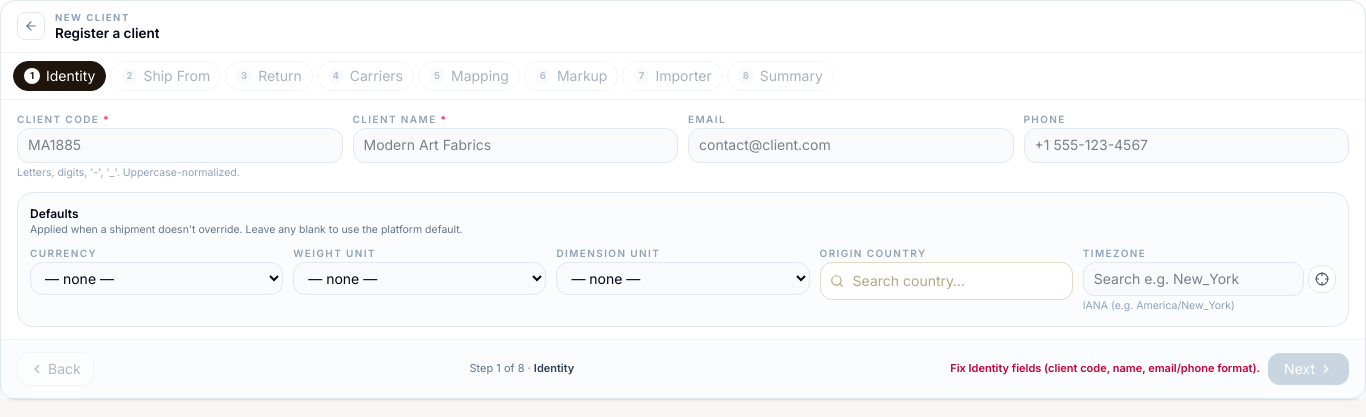
ClientEditorPage · Identity · negative › empty name → touched → required error
Click the field with placeholder "Modern Art Fabrics" at (515, 146), box x1=352 y1=128 x2=678 y2=163
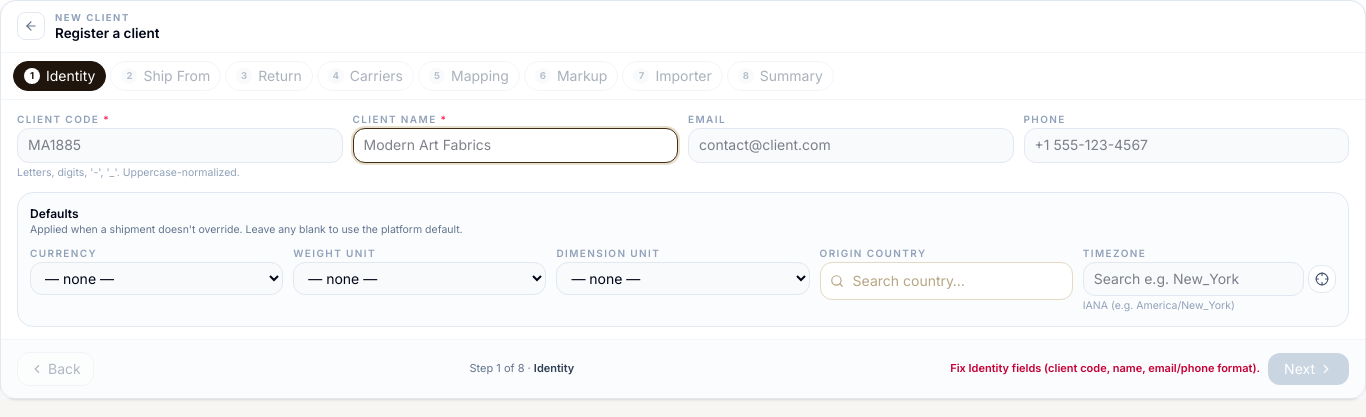
Press Tab
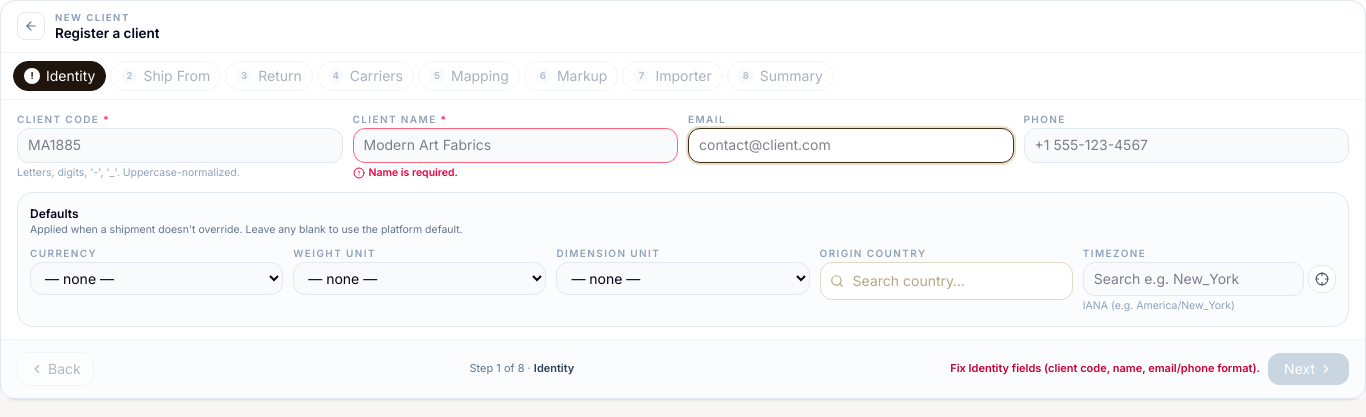
Now the text "Name is required." is shown, box x1=352 y1=166 x2=458 y2=179
